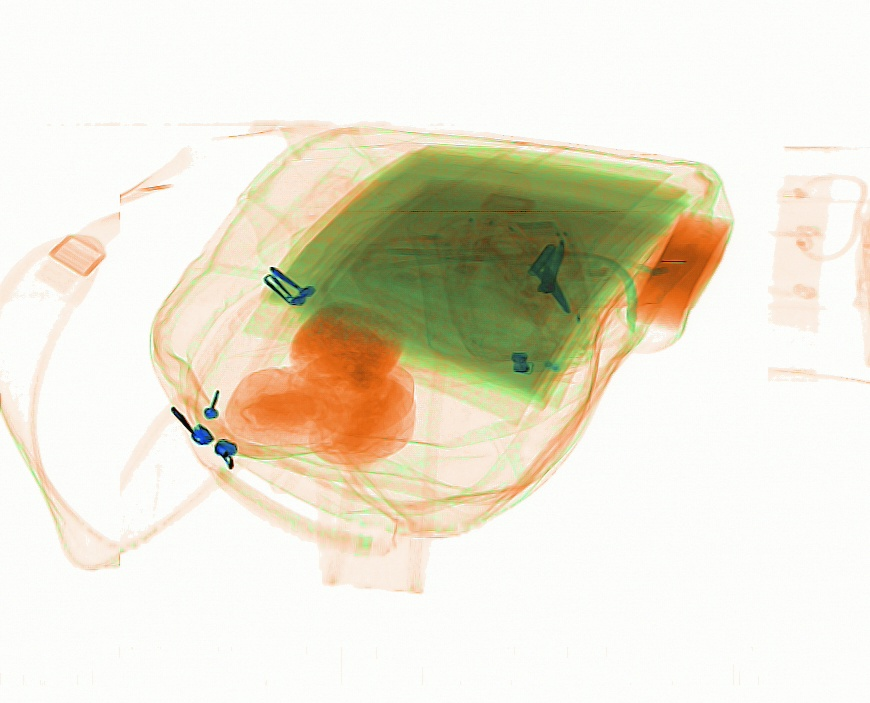scissors: (482, 210, 572, 314)
